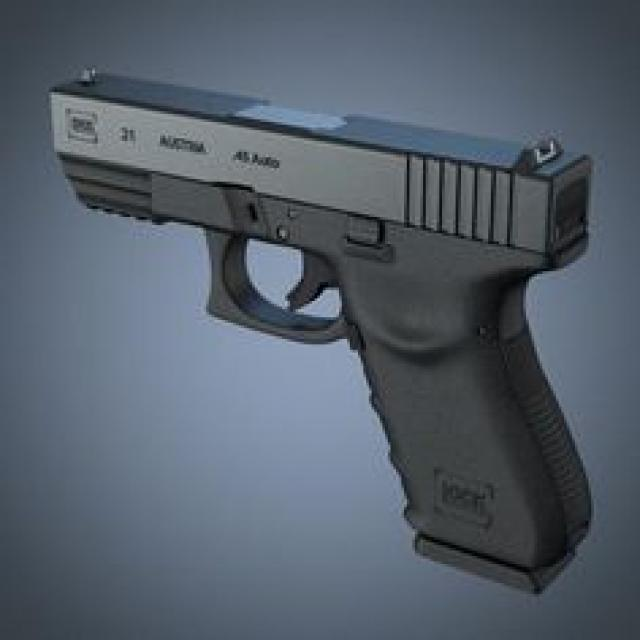semi automatic: (45, 41, 607, 598)
